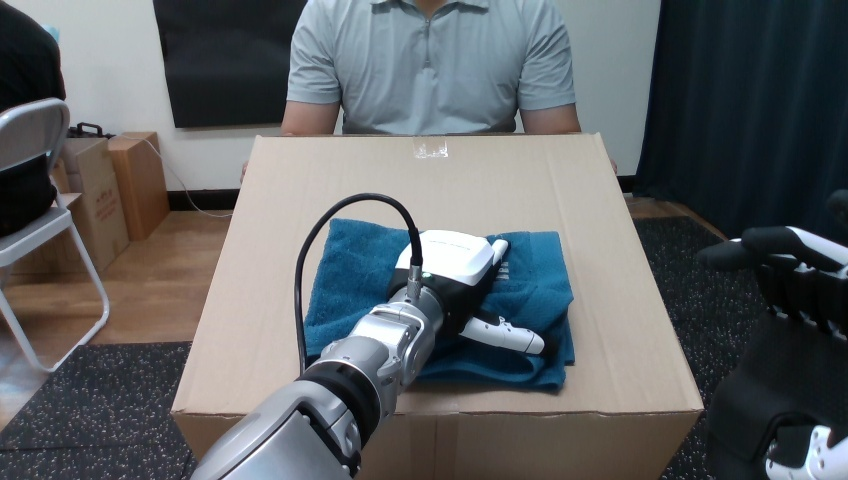left robot hand: (192, 193, 544, 479), (301, 200, 410, 367)
